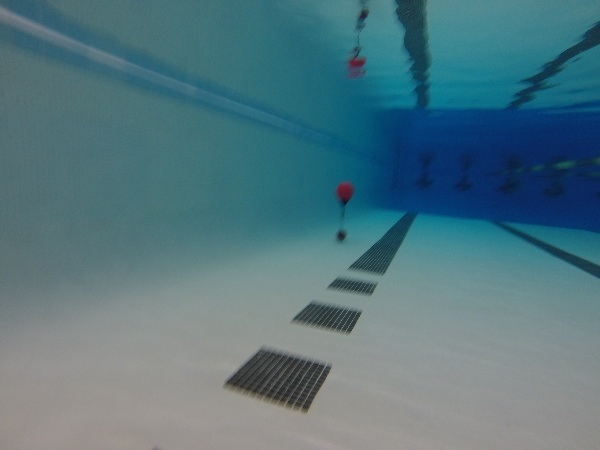buoy_red: (334, 180, 356, 207)
